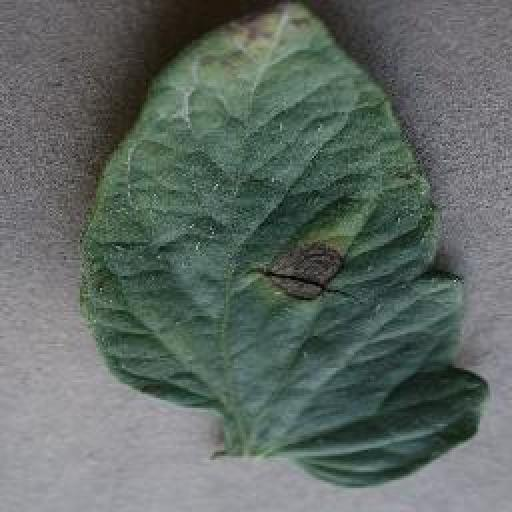Early Blight: (83, 2, 492, 490)
